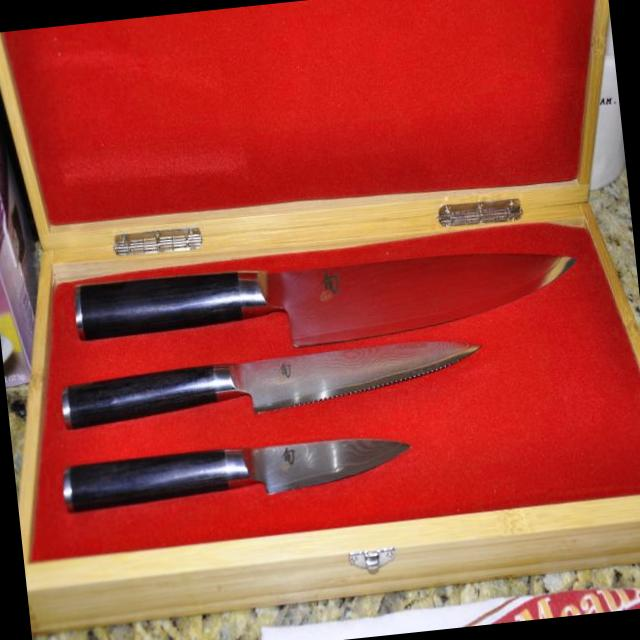Knife: (76, 253, 570, 346), (61, 341, 477, 429), (62, 438, 409, 512)
